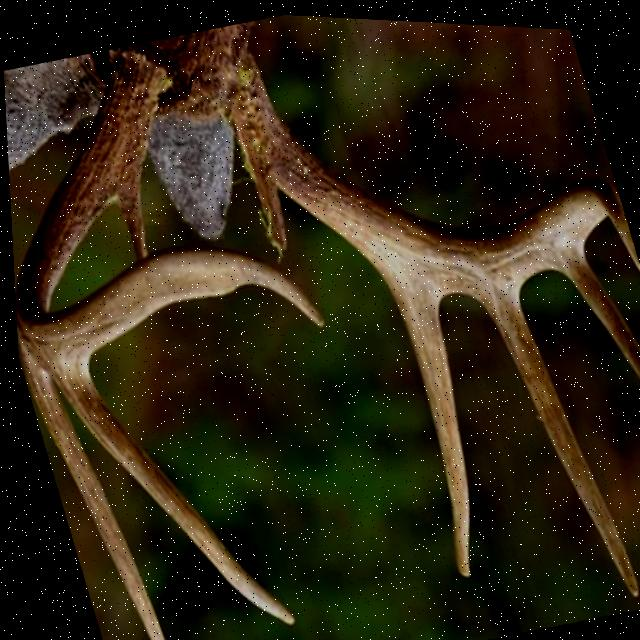L-F: (232, 49, 640, 279)
L-G1: (235, 131, 285, 255)
L-G2: (375, 262, 465, 573)
L-G3: (485, 282, 633, 591)
L-G4: (560, 245, 640, 379)
R-F: (12, 45, 321, 368)
R-G1: (116, 178, 144, 255)
R-G2: (14, 341, 160, 640)
R-G3: (50, 351, 289, 623)
